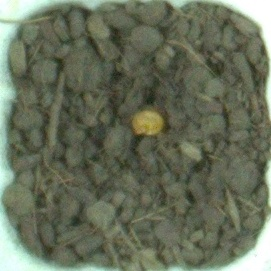pepper seed: (46, 39, 214, 177)
